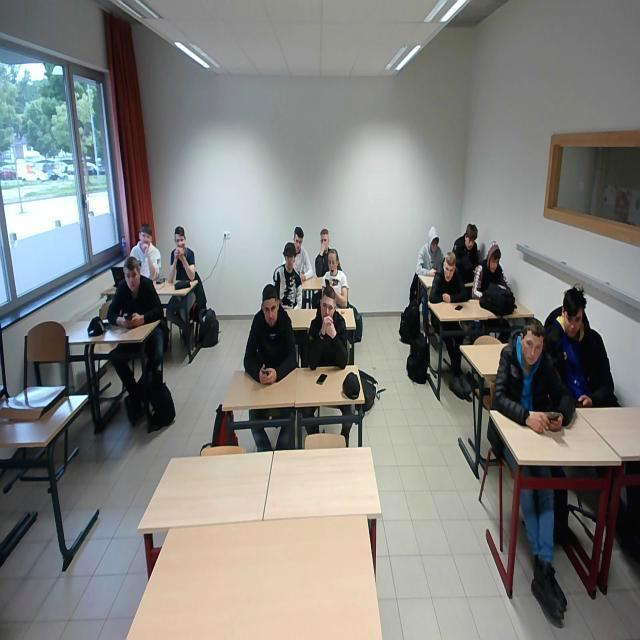Looking away: (483, 244, 508, 276), (463, 223, 478, 249), (427, 231, 442, 255)
Looking forward: (560, 283, 594, 345), (313, 292, 344, 332), (132, 220, 154, 254), (440, 250, 459, 286), (282, 240, 302, 272), (174, 224, 194, 255)
Phone use: (492, 321, 578, 434), (237, 282, 300, 389), (104, 252, 164, 343), (319, 244, 352, 304)
